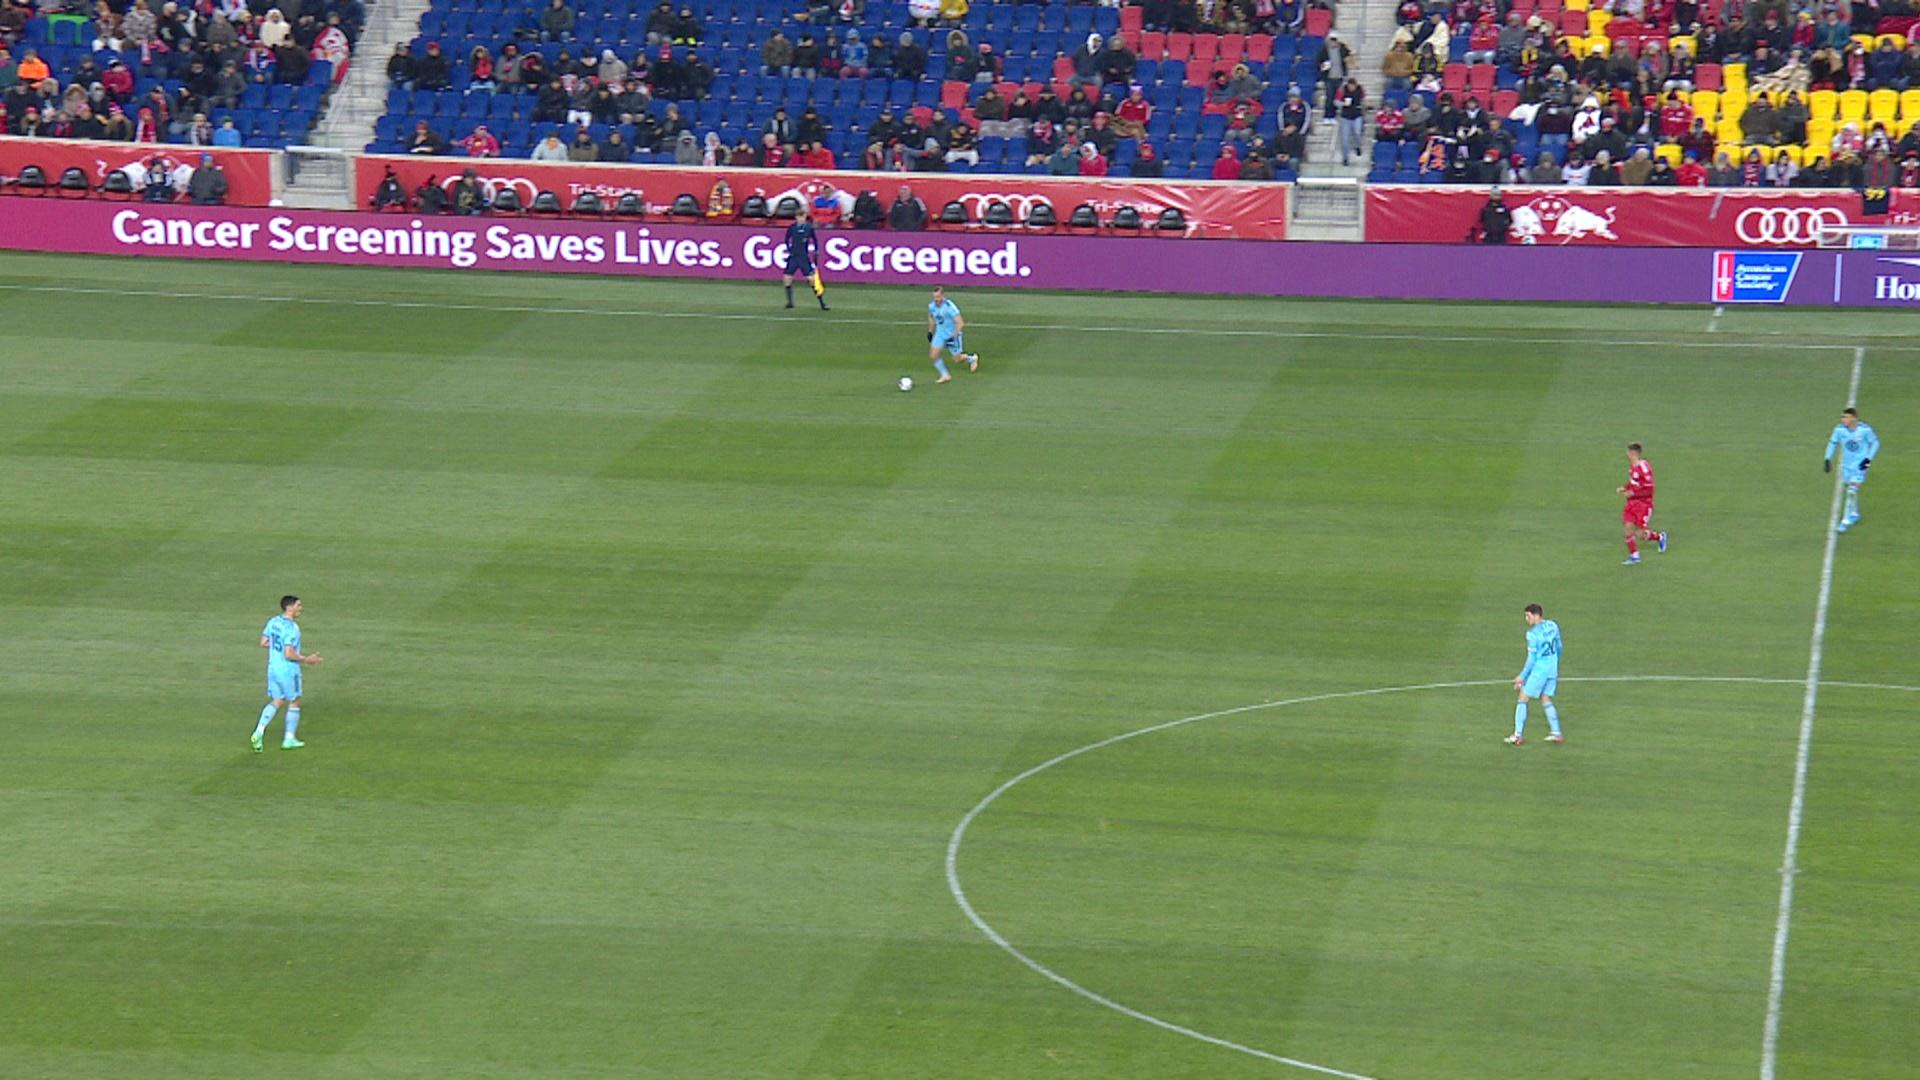football: (898, 376, 915, 393)
